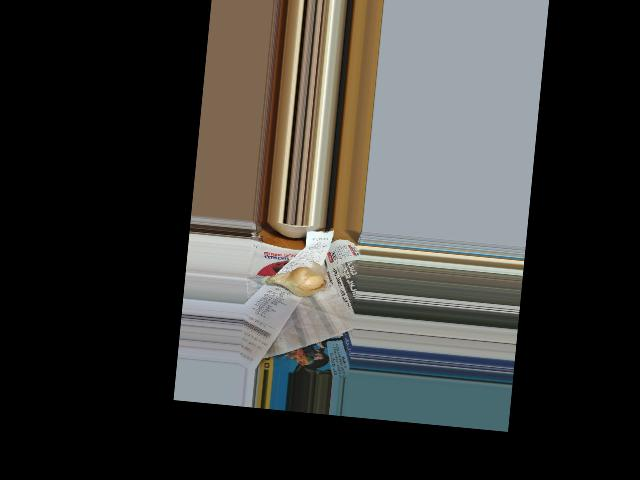onion: (269, 265, 326, 297)
